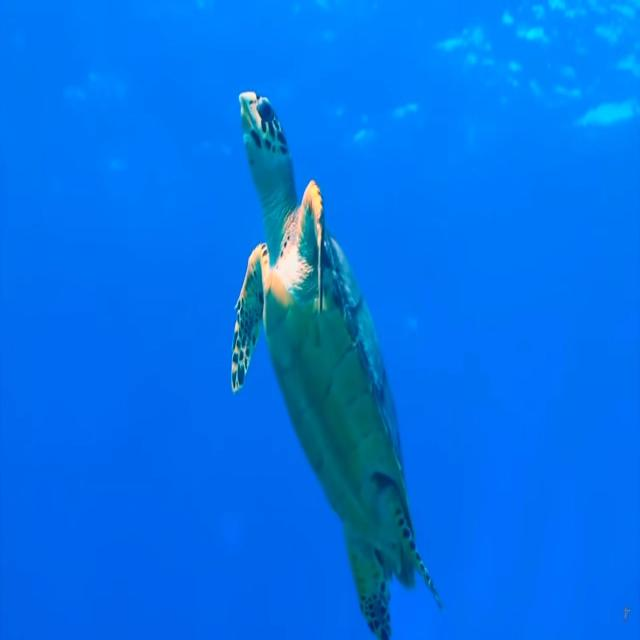Sea turtle: (226, 85, 450, 640)
